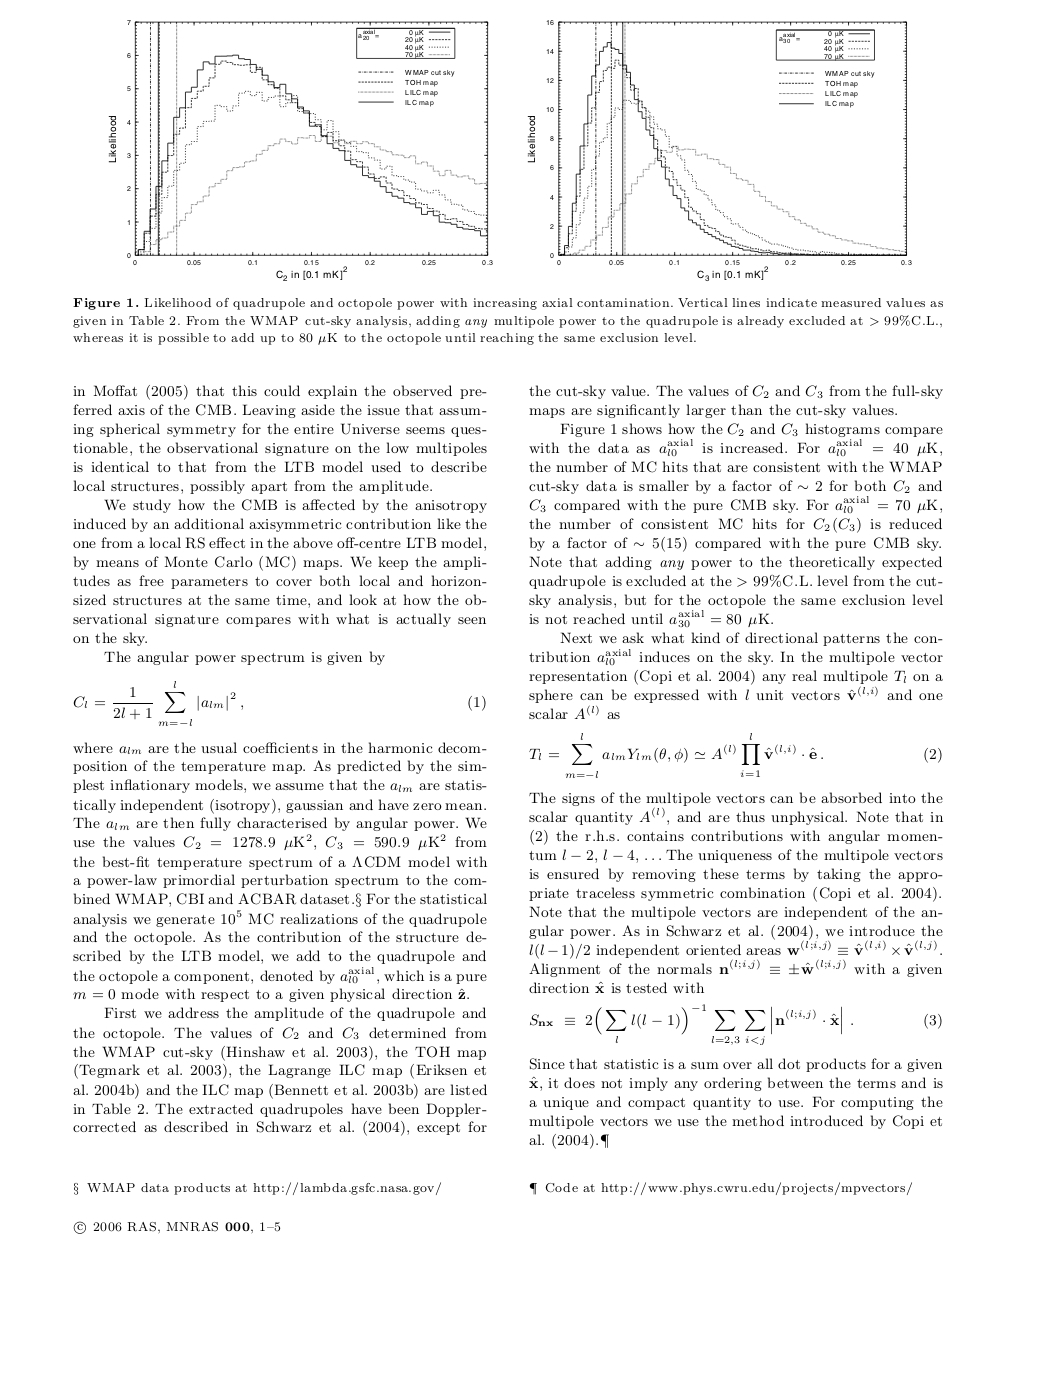figure: (108, 20, 491, 280), (527, 20, 911, 280)
formula: (74, 680, 485, 726), (529, 733, 941, 777), (530, 1003, 941, 1045)
